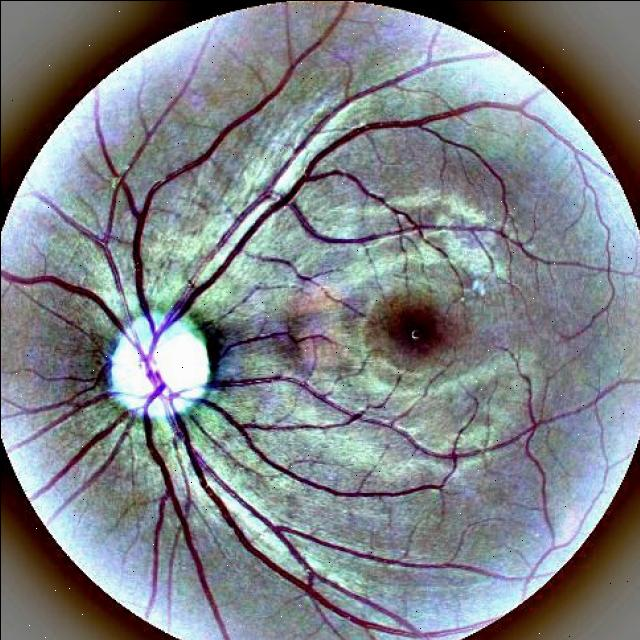Macula: (391, 309, 440, 354)
Optic Disk: (108, 315, 212, 419)
